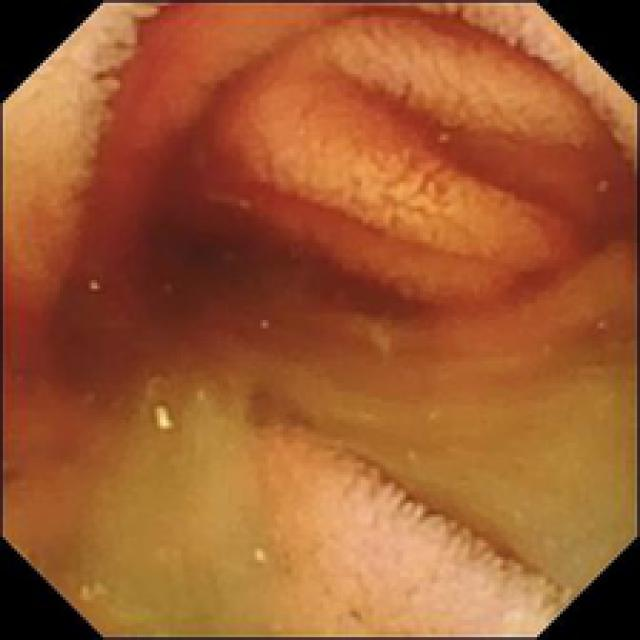bleeding: (0, 2, 638, 414), (366, 458, 548, 580)
